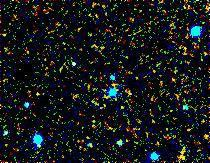star: (162, 144, 192, 163)
